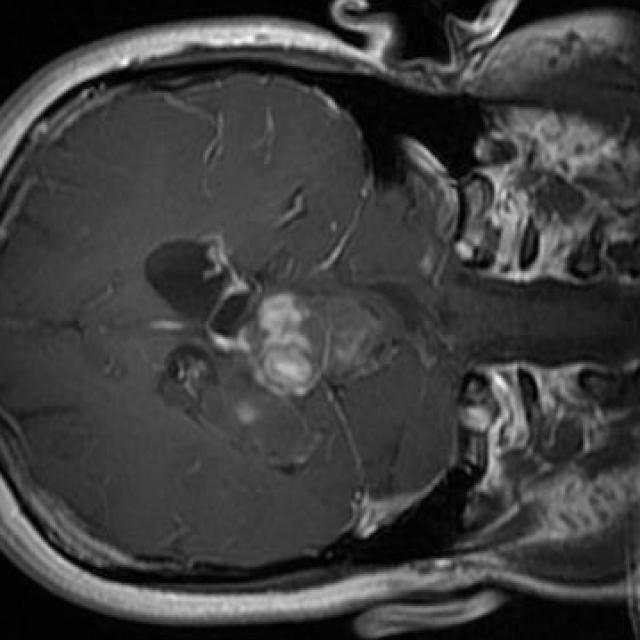glioma: (159, 235, 417, 476)
